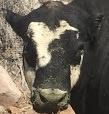muzzles: (29, 87, 69, 113)
